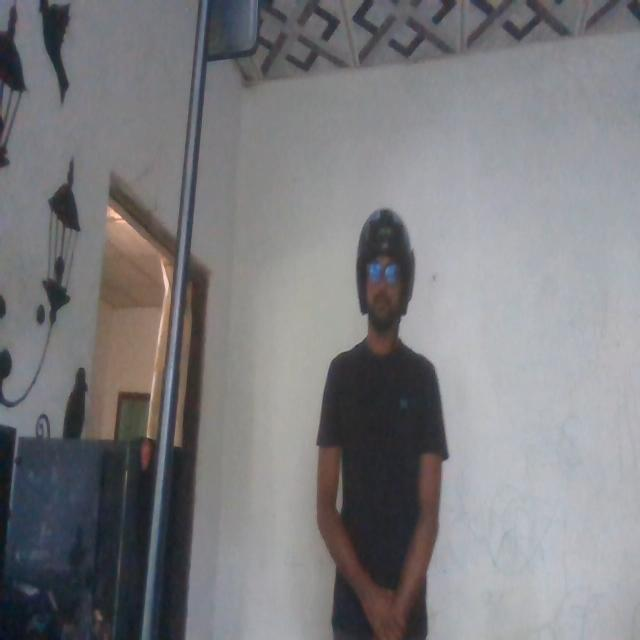Helmet_Wearer: (346, 204, 422, 364)
Person: (314, 205, 446, 640)
